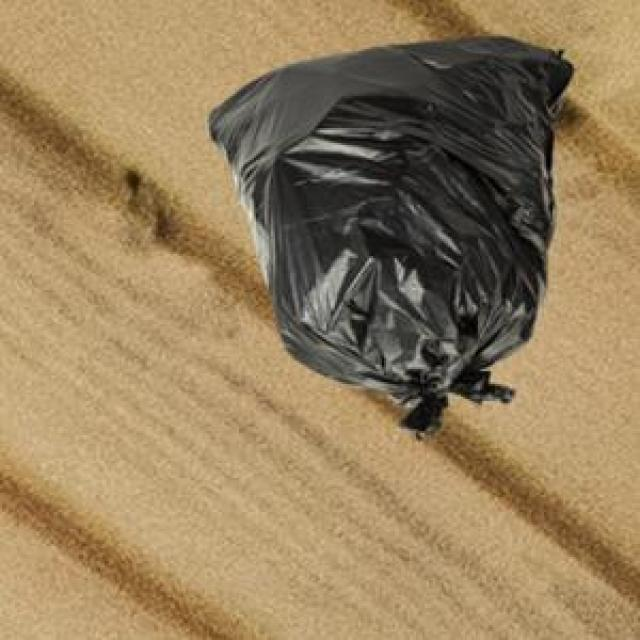waste: (209, 38, 574, 436)
